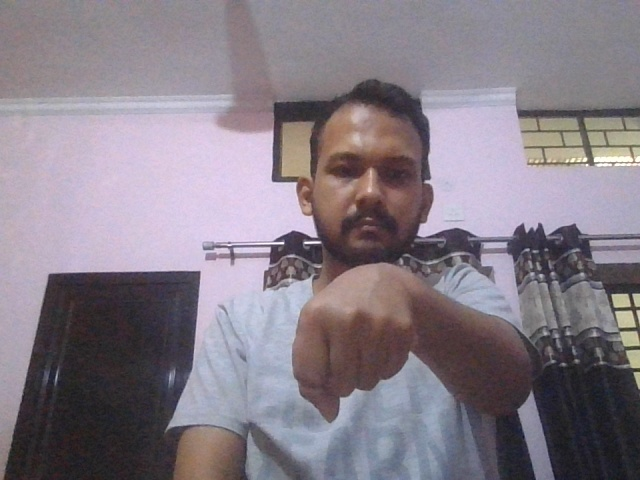yes: (293, 262, 413, 426)
